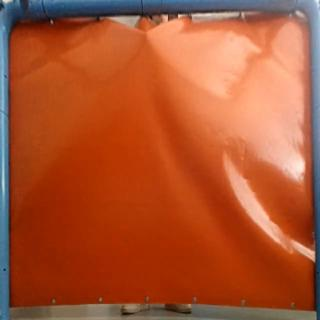Hit-hRxx: (140, 28, 157, 42)
